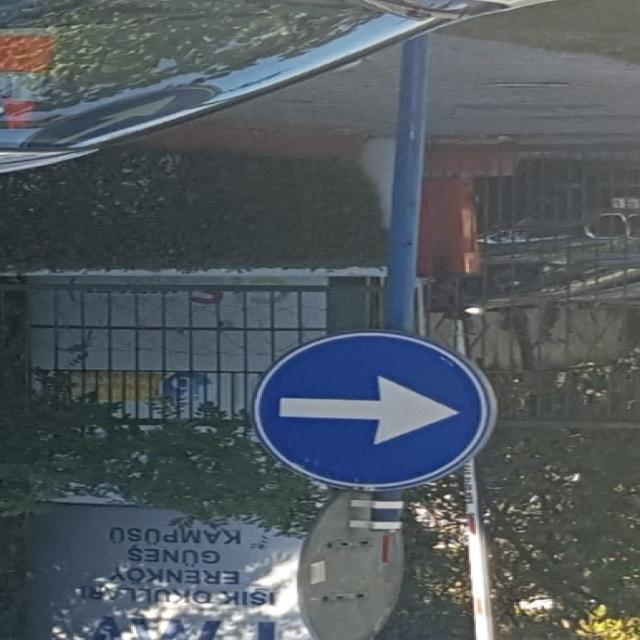Turn Right: (249, 334, 491, 491)
